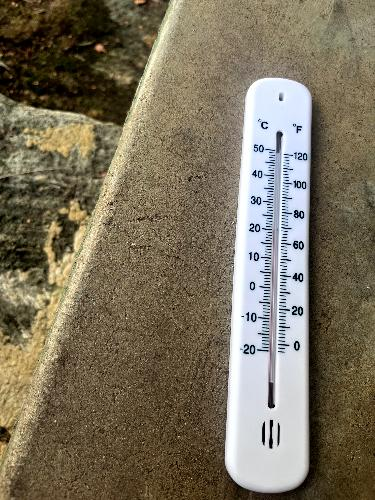thermo: (222, 78, 333, 486)
